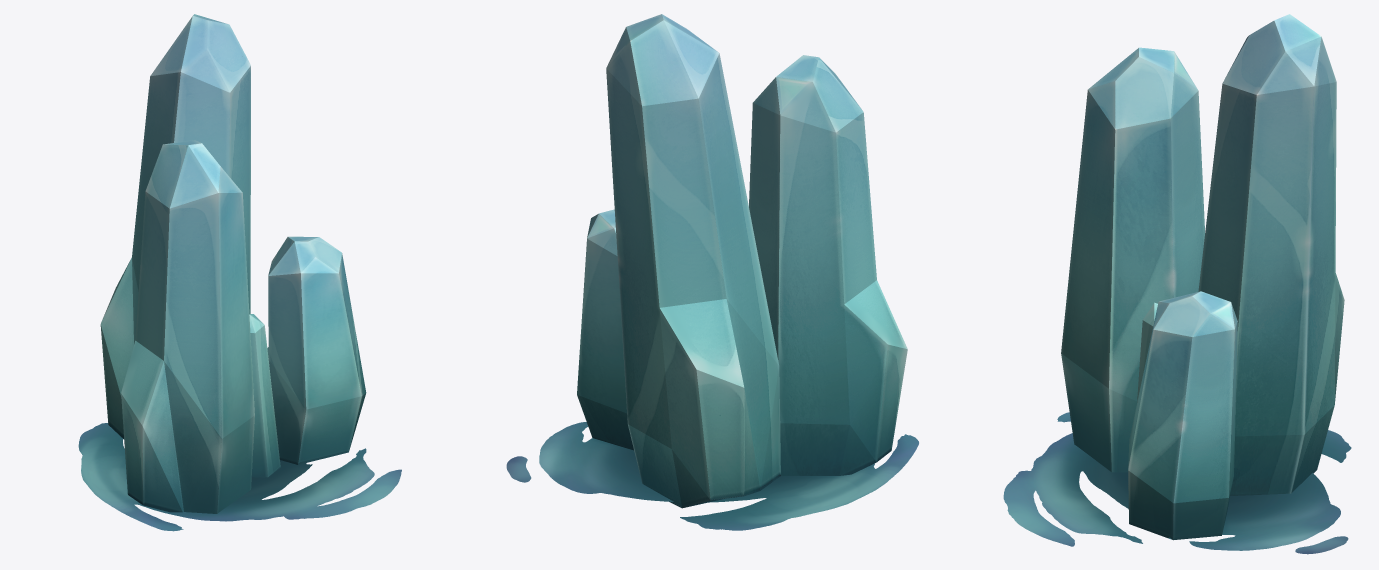
Rendered from crystal.obj.
3 renders of one model, left to right at view 1: azimuth 30°, elevation 25°; view 2: azimuth 150°, elevation 25°; view 3: azimuth 270°, elevation 25°, orthographic. The views are drawn at different scales.
Visible parts, largest first — view 1: Cylinder.004; view 2: Cylinder.004; view 3: Cylinder.004.
Part boxes in pixels (box(x1,y1,x2,y2)): Cylinder.004: box(78, 14, 401, 531); Cylinder.004: box(506, 14, 918, 530); Cylinder.004: box(1003, 14, 1351, 554).
Size of the model in its own units: 1.98 by 2.87 by 1.98.
